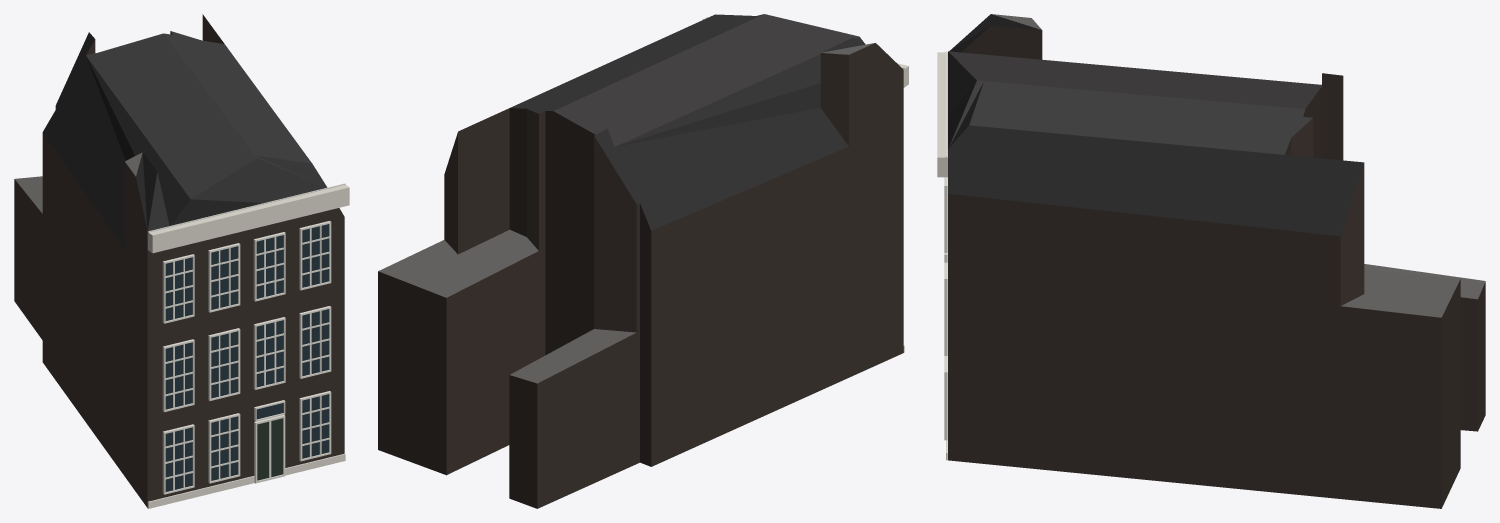
3 views of the same model, side by side, from view 1: azimuth 30°, elevation 25°; view 2: azimuth 150°, elevation 25°; view 3: azimuth 270°, elevation 25° (orthographic). The views are drawn at different scales.
Visible parts, largest first — view 1: spec-0363100012182375; view 2: spec-0363100012182375; view 3: spec-0363100012182375.
Part boxes in pixels (bbox=[...]): spec-0363100012182375: bbox=[14, 14, 349, 508]; spec-0363100012182375: bbox=[378, 14, 908, 508]; spec-0363100012182375: bbox=[937, 14, 1485, 508].
Bounding box in the file's own units: 13.45 × 14.08 × 20.27.
